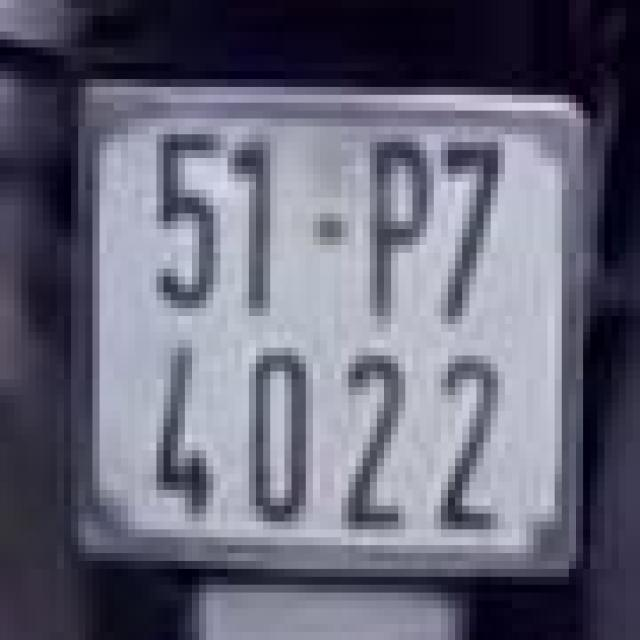0: (242, 336, 320, 525)
1: (224, 107, 288, 320)
2: (331, 344, 430, 541), (431, 340, 508, 553)
4: (142, 328, 220, 533)
5: (150, 118, 228, 324)
7: (441, 118, 512, 340)
P: (355, 126, 441, 332)
